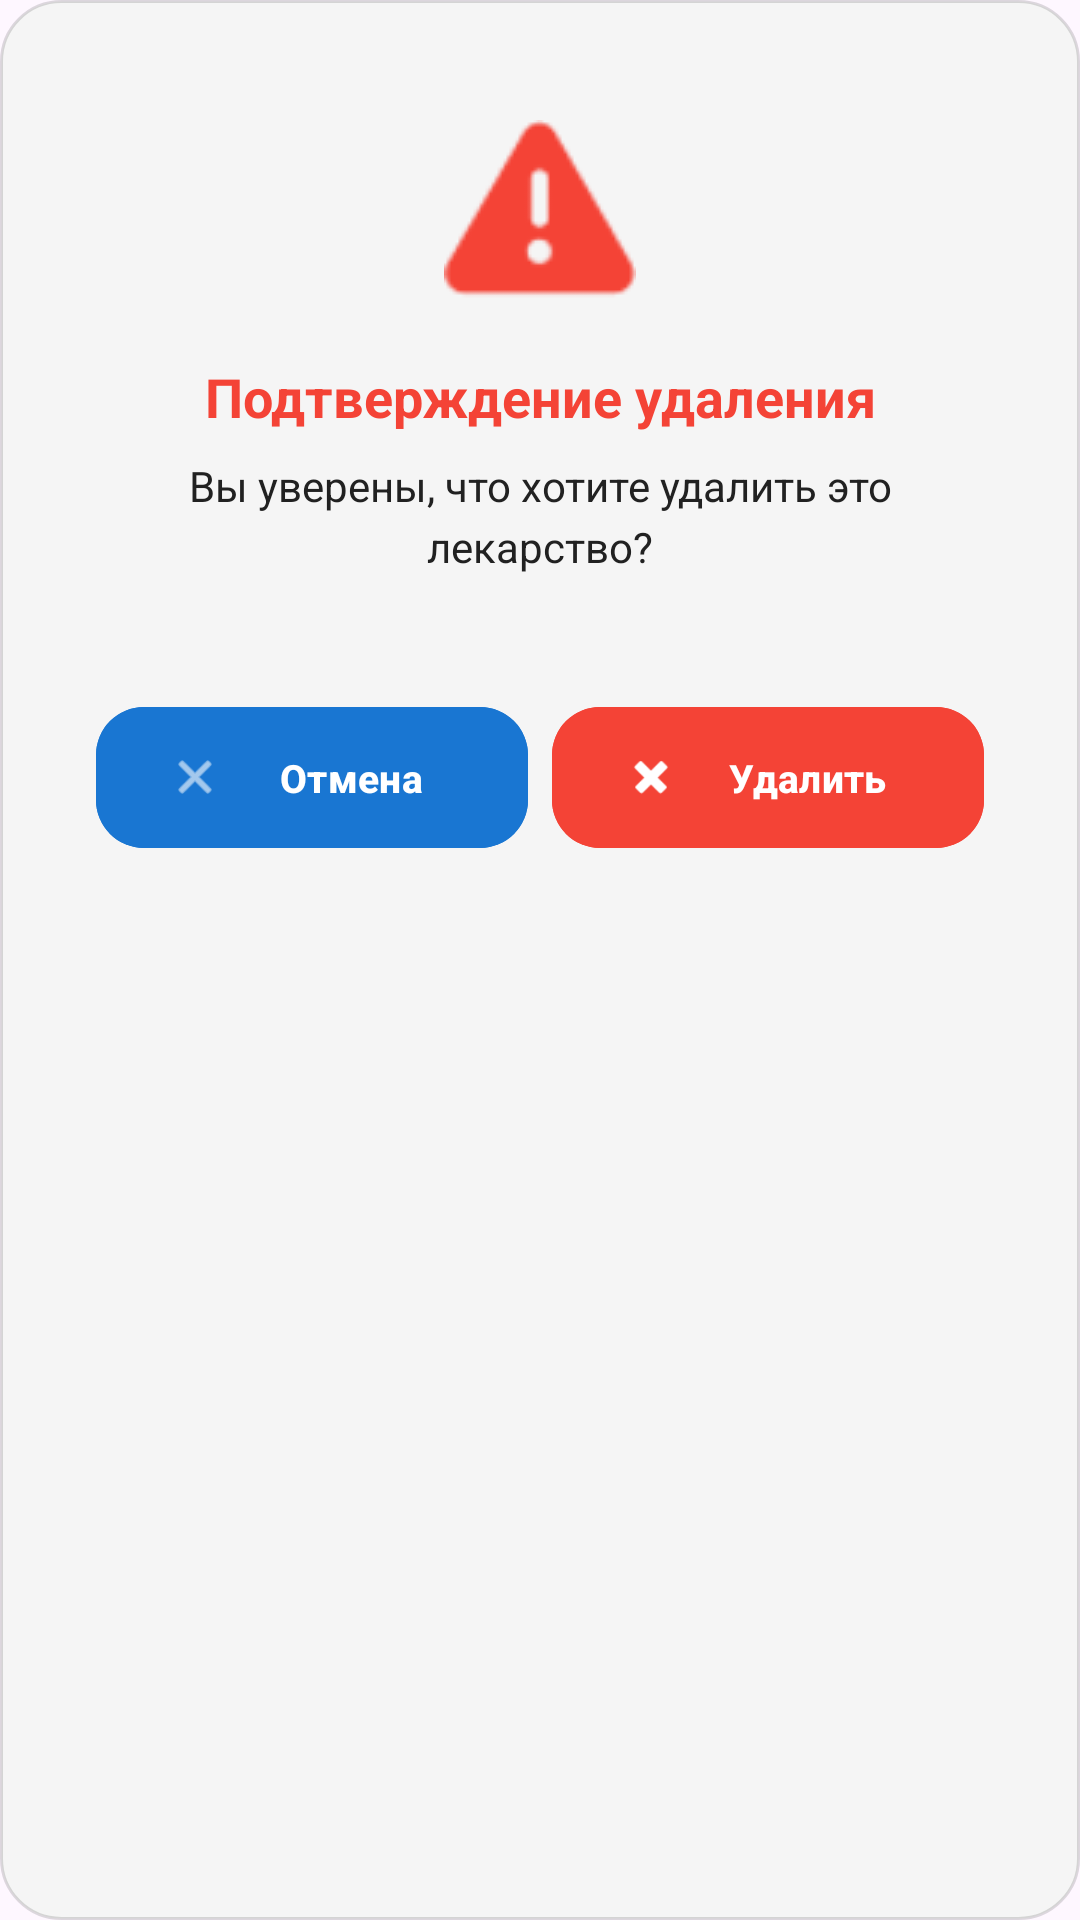

Icon click points for this 1080px×1920px phone screenshot, format (x=x, y=y):
alert: (x=540, y=207)
